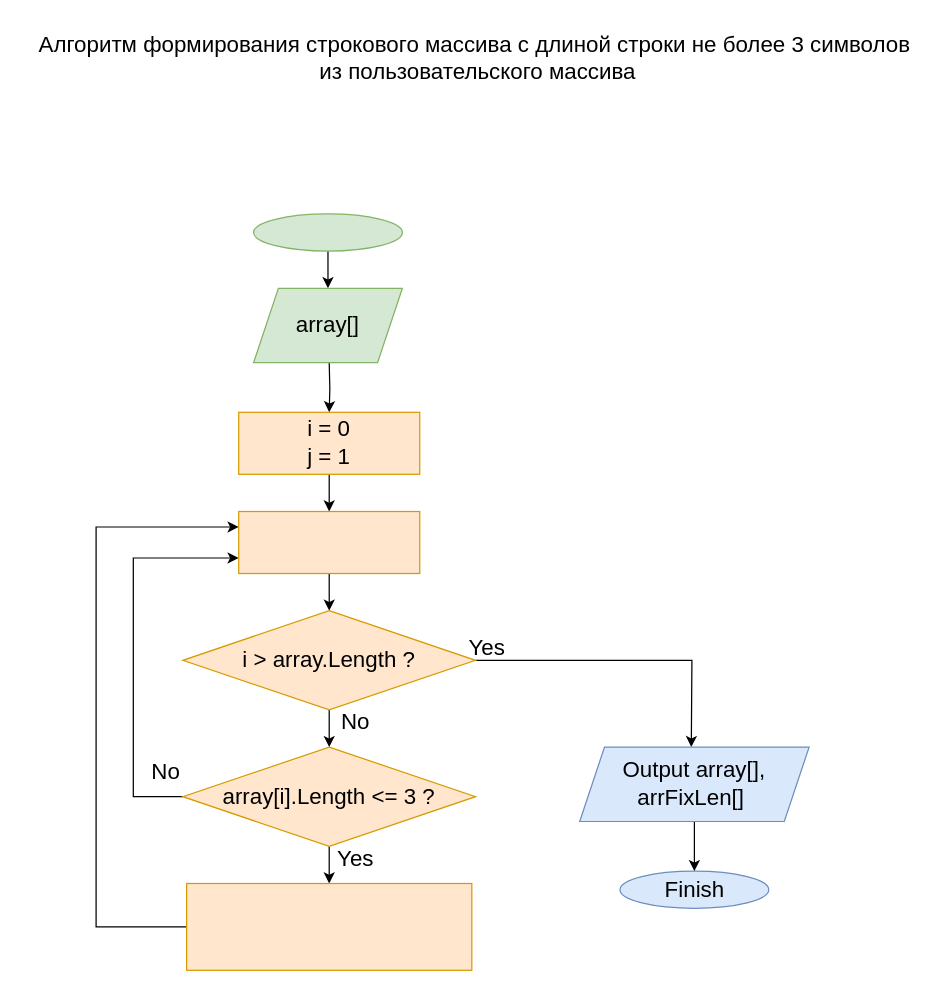
Some shapes in this 947 by 992 pixel diagram are drawn without their labels. The shapes that lost their labels are listed below. From the top down, each one's centre as x and y in pixels, then its label:
pixel 327 232: Start
pixel 328 542: i = i + 1
pixel 328 926: arrFixLen[j] = array[i] j = j + 1
